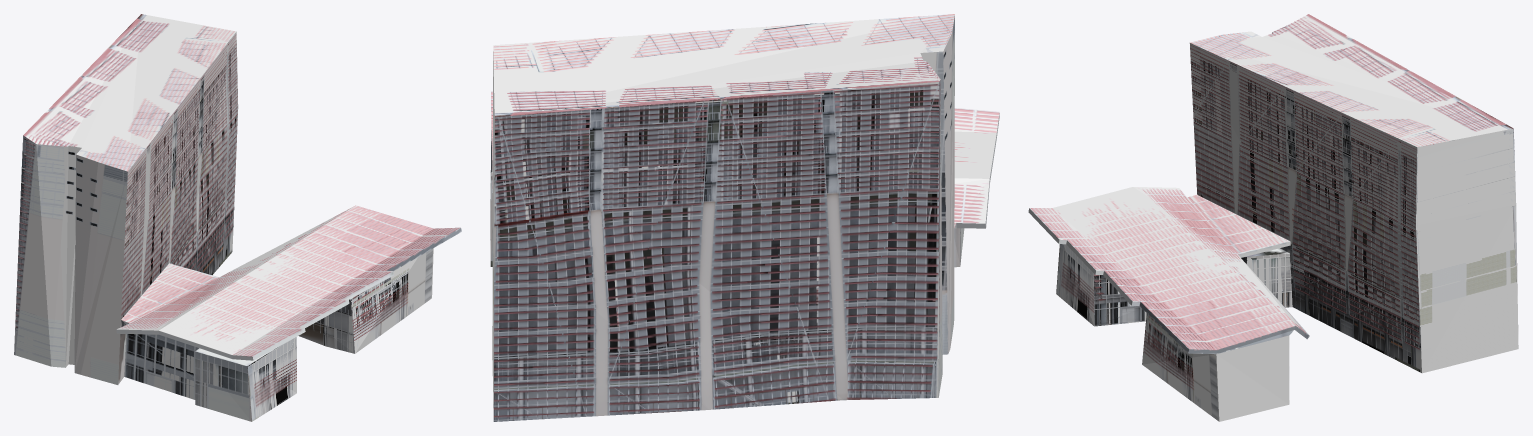
The model's file is Kafd_Base_Location2.11new.glb.
The picture shows the model from 3 angles, left to right: view 1: azimuth 30°, elevation 25°; view 2: azimuth 150°, elevation 25°; view 3: azimuth 270°, elevation 25°; orthographic projection. The views are drawn at different scales.
Parts seen in each view (by area): view 1: 2.11copy; view 2: 2.11copy; view 3: 2.11copy.
Part boxes in pixels (x1,y1,x2,y2): 2.11copy: (14, 14, 461, 421); 2.11copy: (490, 14, 999, 421); 2.11copy: (1028, 14, 1518, 421).
Size of the model in its own units: 99.78 by 55.37 by 108.
1 material, 1 textured.
